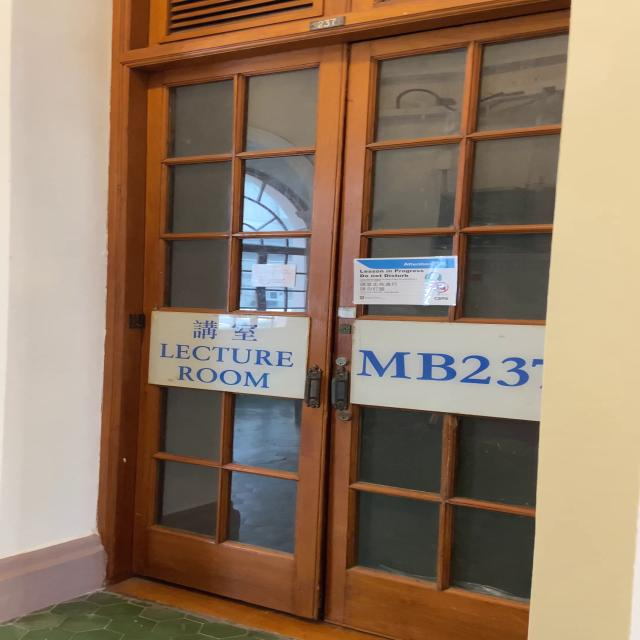room237: (310, 16, 344, 32)
